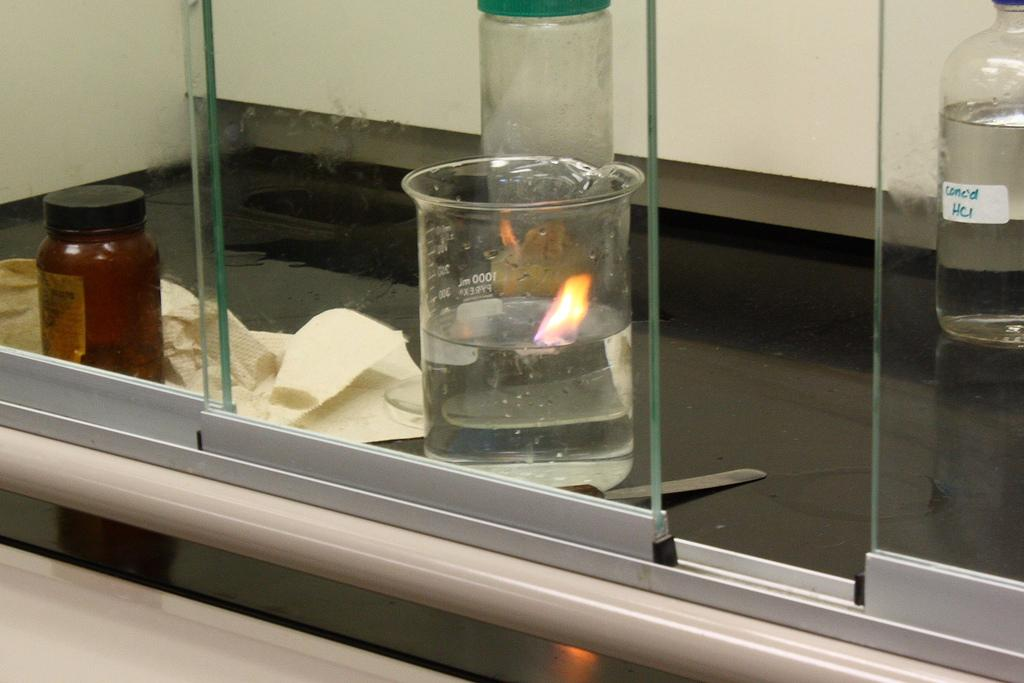fire: (537, 275, 617, 350)
